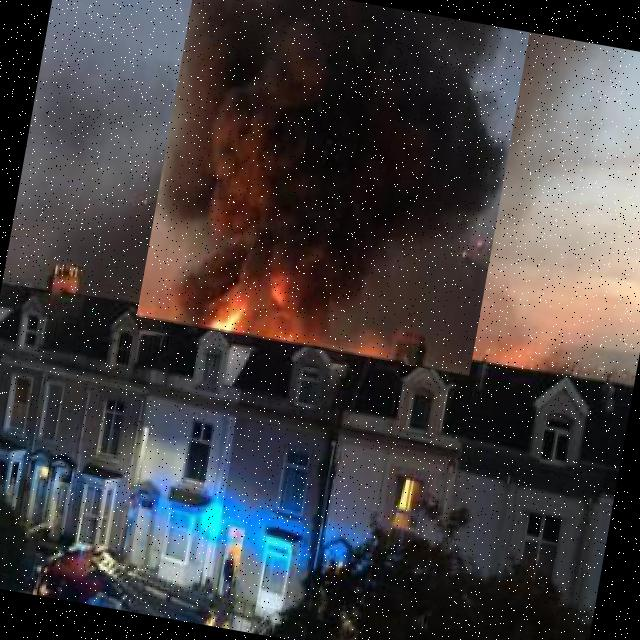fire: (136, 0, 529, 375)
